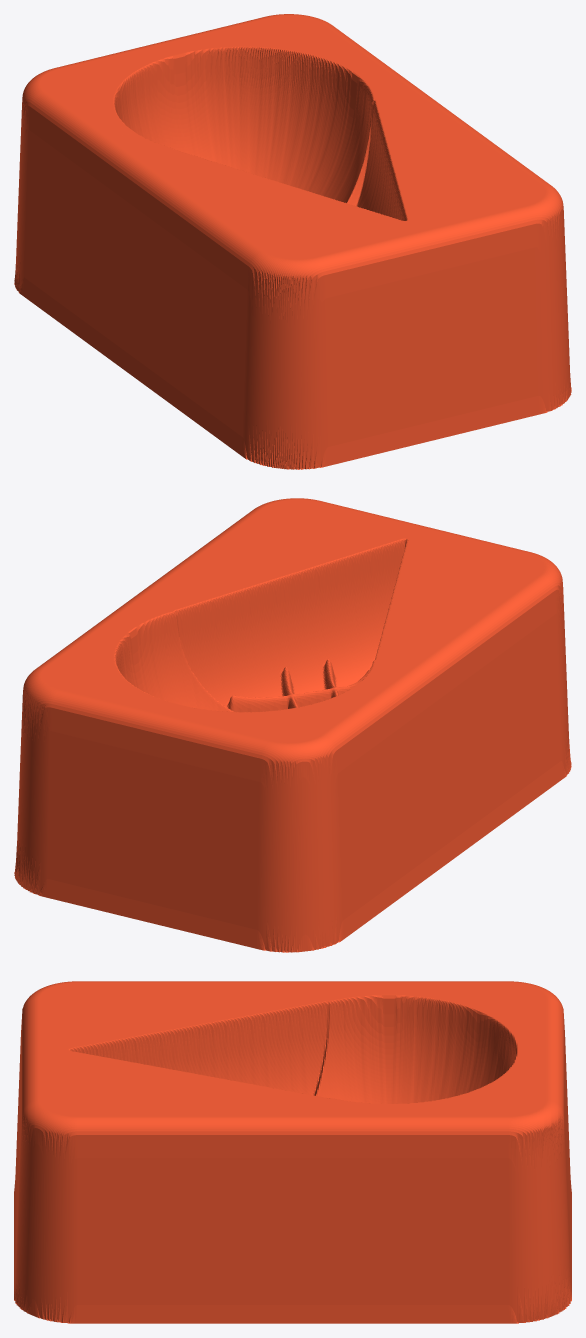
File: mold.glb
3 renders of one model, top to bottom at view 1: azimuth 30°, elevation 25°; view 2: azimuth 150°, elevation 25°; view 3: azimuth 270°, elevation 25°, orthographic.
Visible parts, largest first — view 1: geometry_0; view 2: geometry_0; view 3: geometry_0.
Boxes of the visible parts, left/top/right/bottom form: geometry_0: left=14, top=14, right=571, bottom=469; geometry_0: left=14, top=498, right=571, bottom=952; geometry_0: left=14, top=981, right=571, bottom=1323.
Size of the model in its own units: 0.0524 by 0.031 by 0.0798.
